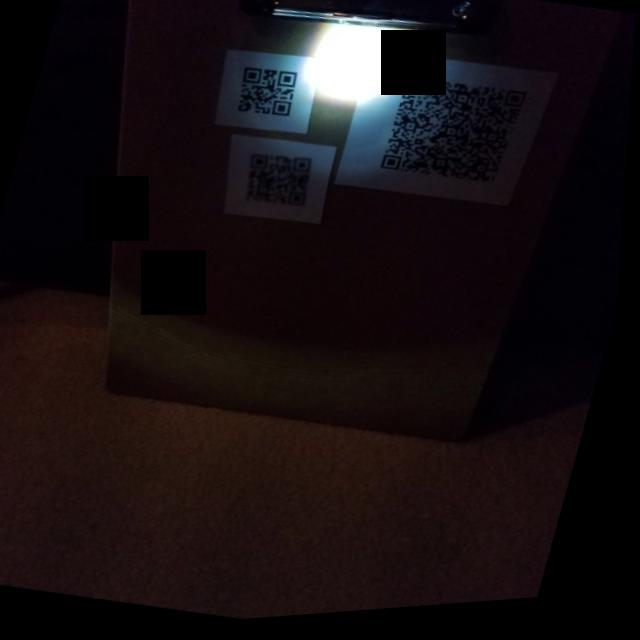QR_CODE: (368, 53, 553, 210), (226, 137, 330, 225), (211, 48, 314, 134)
